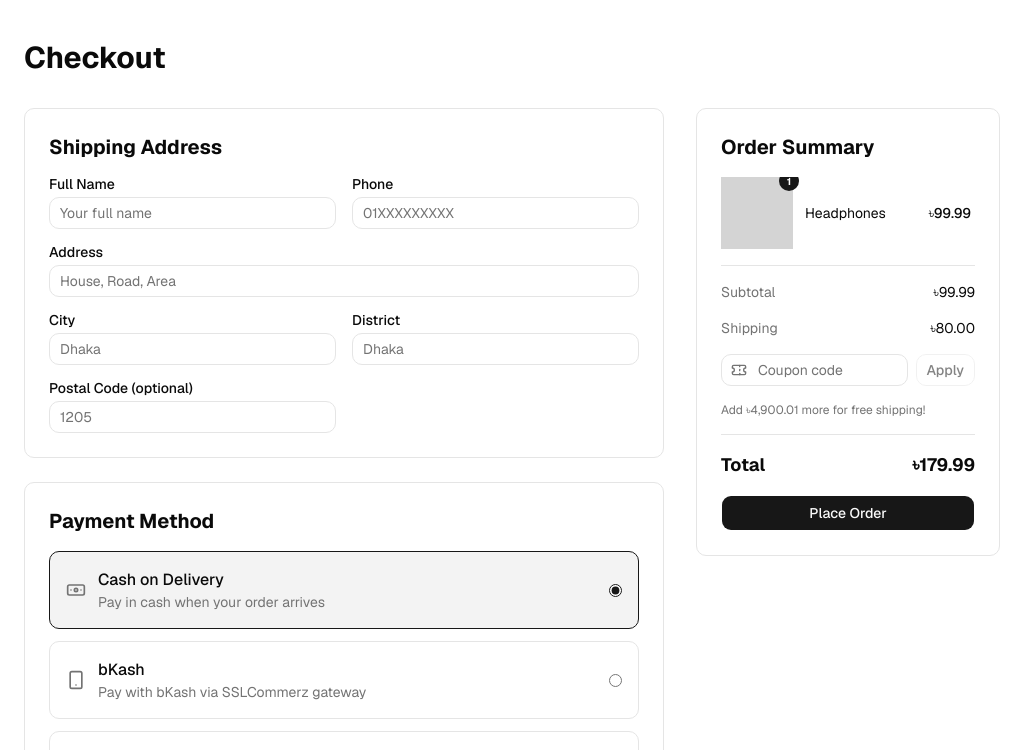
Scenario: CheckoutPage coupon input › shows an error for an invalid coupon
Type "NOPE" into the field with placeholder "Coupon code" at (814, 370), box [721,354,908,386]
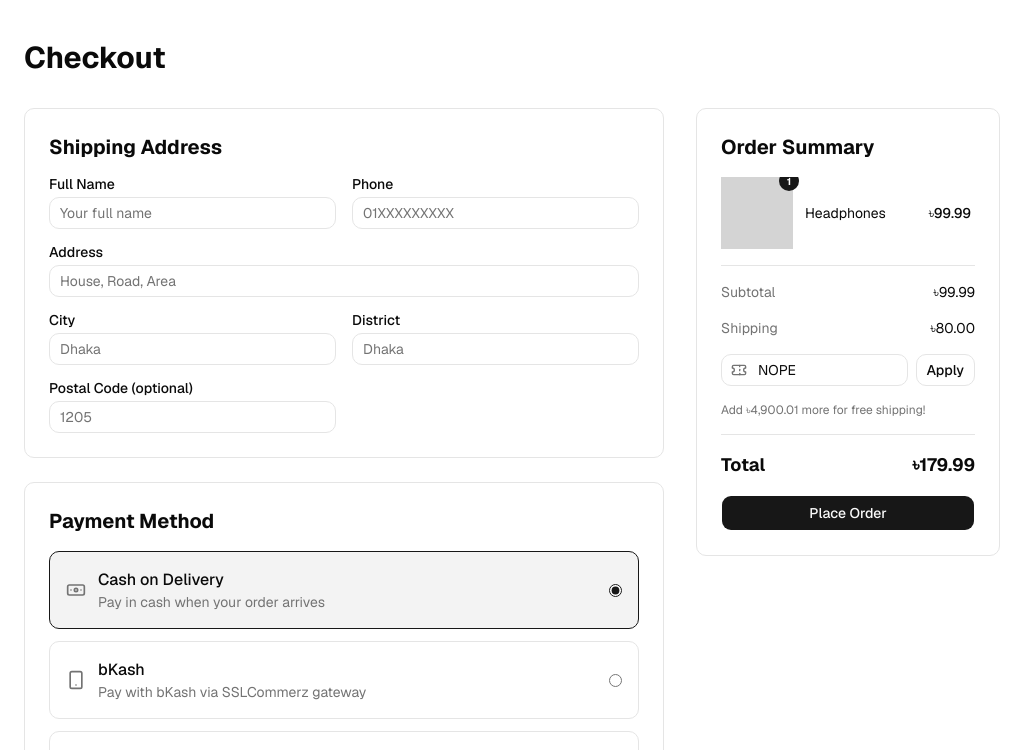
Click the button "Apply" at (945, 370), box [916,354,975,386]
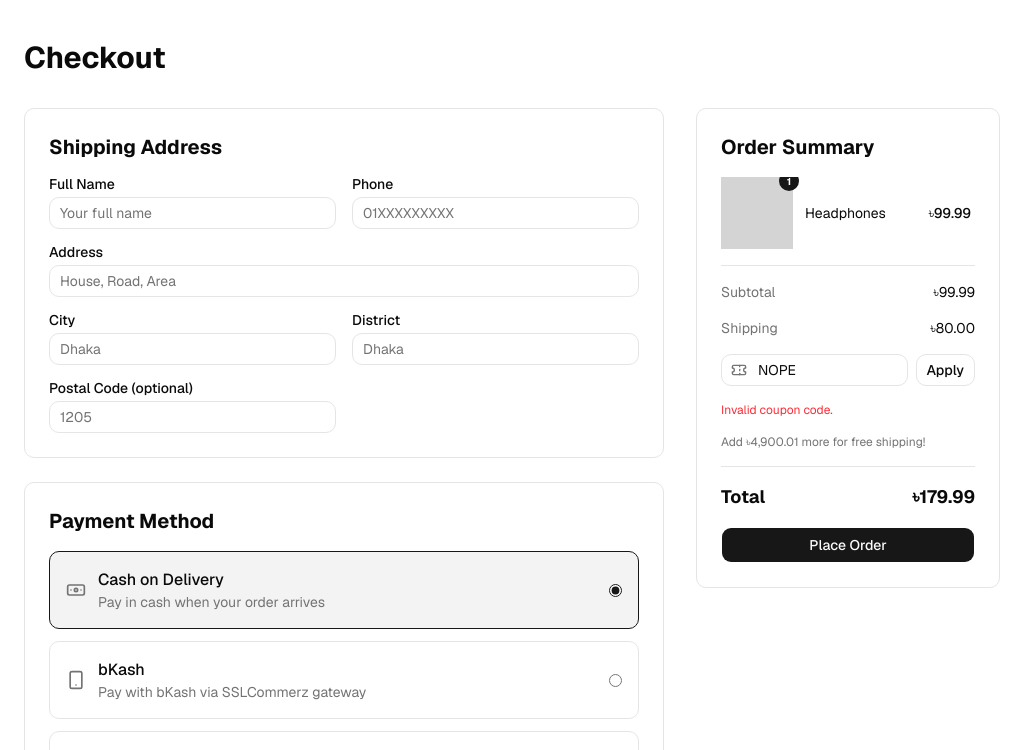
Expected: the text "Invalid coupon code." is shown, [721,402,833,418]
